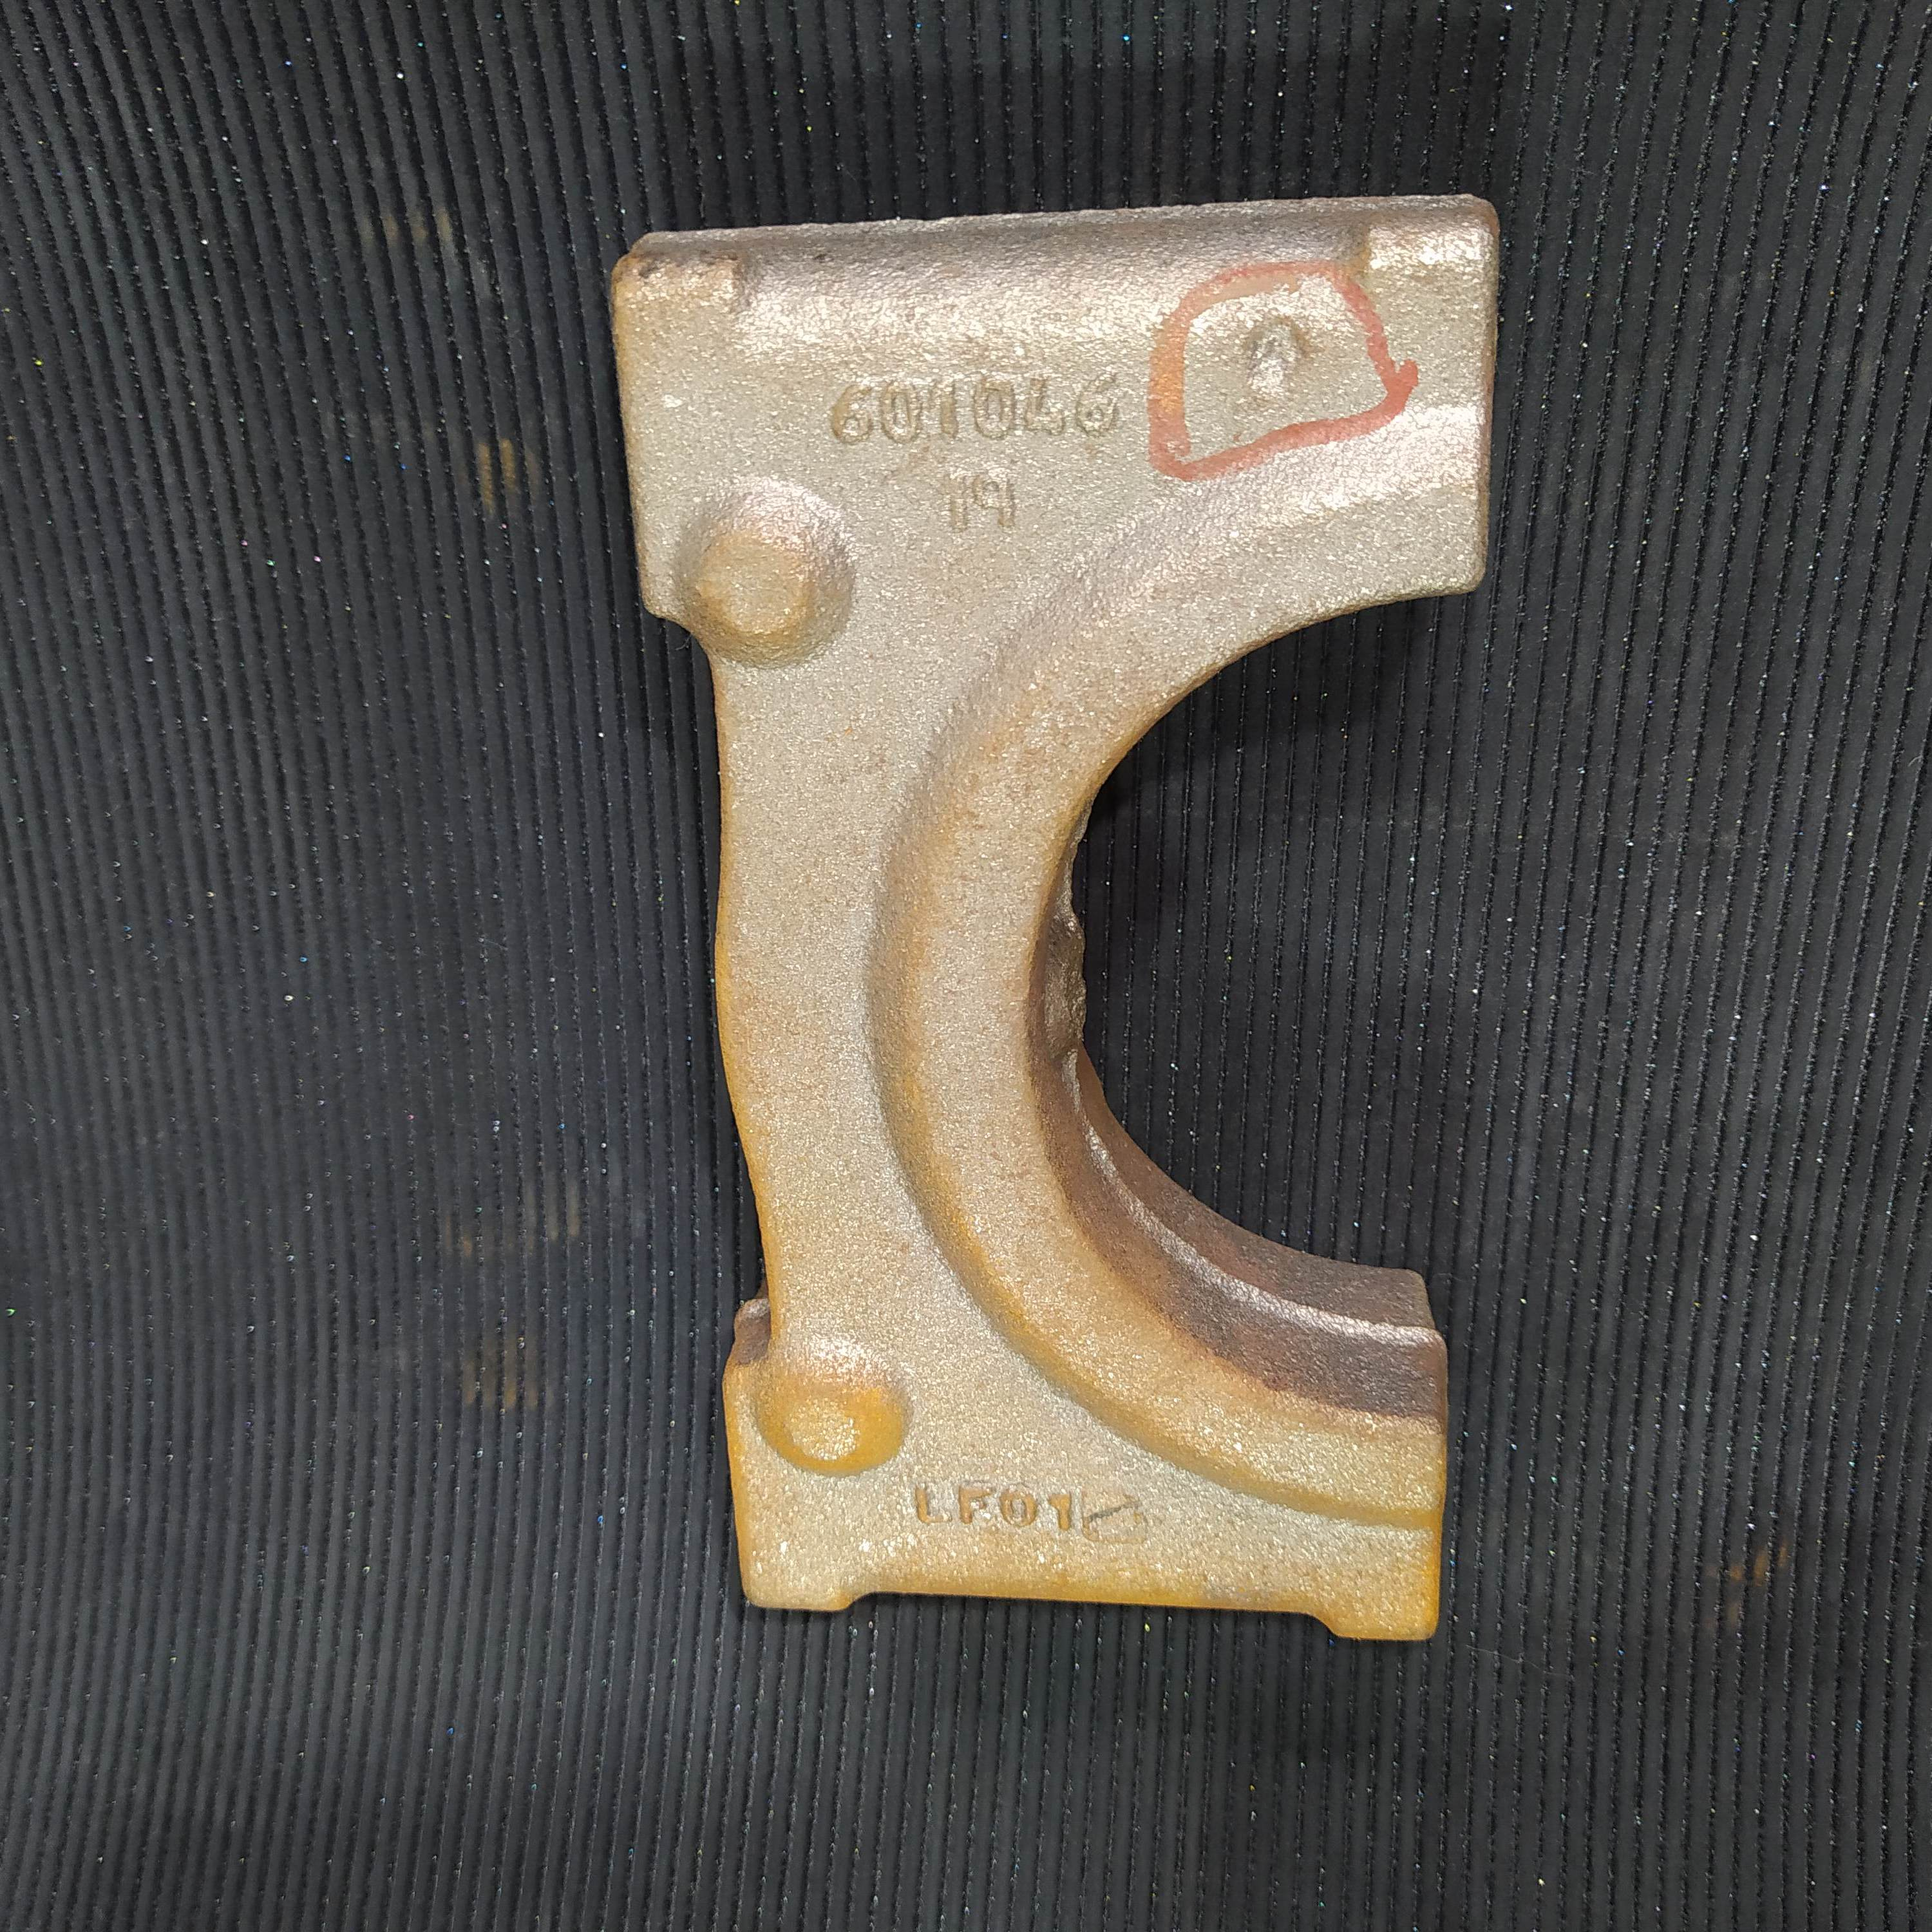buraco: (1238, 313, 1311, 395)
